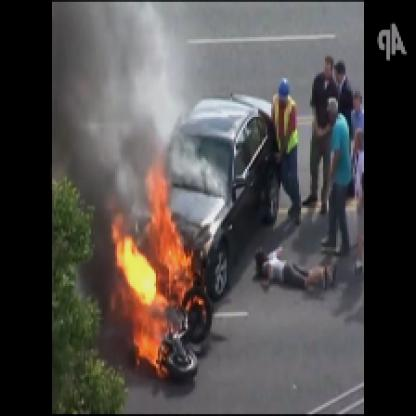Fire: (110, 152, 214, 383)
Smoke: (48, 2, 178, 180)
